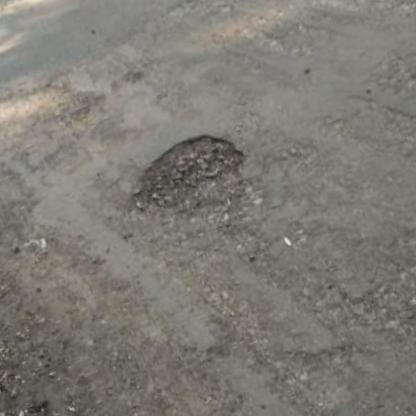pothole: (108, 117, 257, 228)
